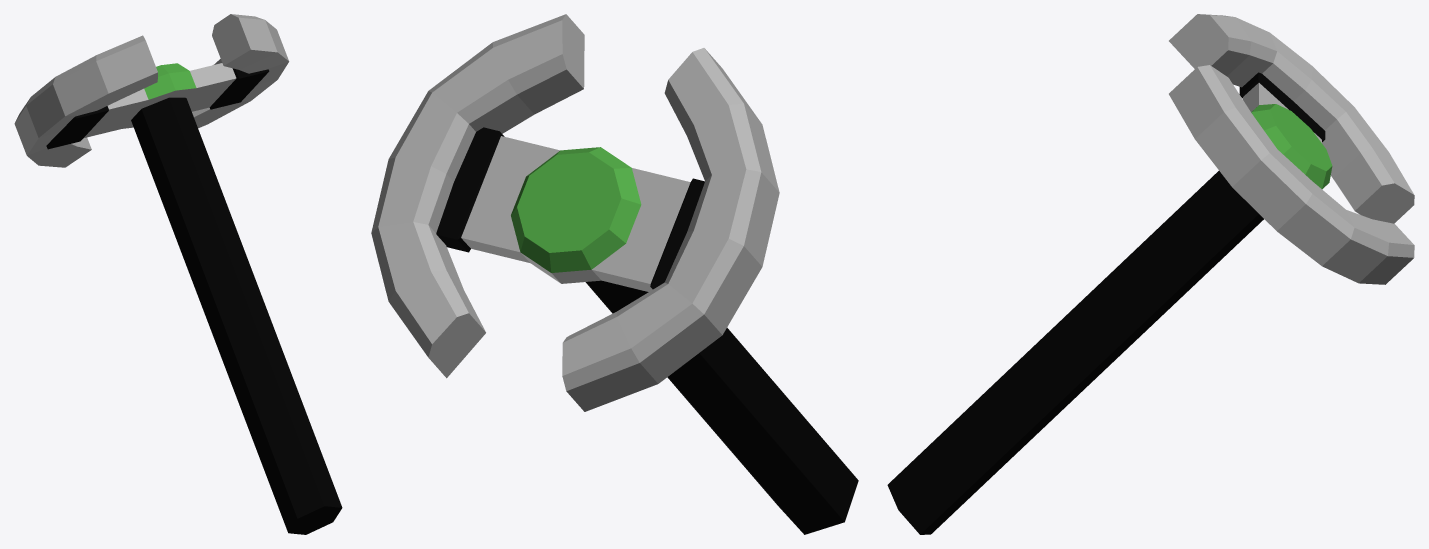
Rendered from SteeringWheel5.fbx.
The picture shows the model from 3 angles, left to right: view 1: azimuth 30°, elevation 25°; view 2: azimuth 150°, elevation 25°; view 3: azimuth 270°, elevation 25°; orthographic projection. The views are drawn at different scales.
Visible parts, largest first — view 1: SteeringWheel5; view 2: SteeringWheel5; view 3: SteeringWheel5.
Boxes of the visible parts, x1=… form: SteeringWheel5: x1=14, y1=14, x2=342, y2=534; SteeringWheel5: x1=371, y1=14, x2=858, y2=534; SteeringWheel5: x1=887, y1=14, x2=1414, y2=534.
Bounding box in the file's own units: 200 × 338 × 327.
